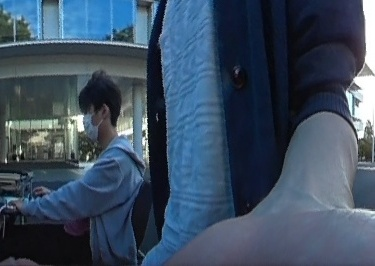person: (44, 69, 144, 266)
